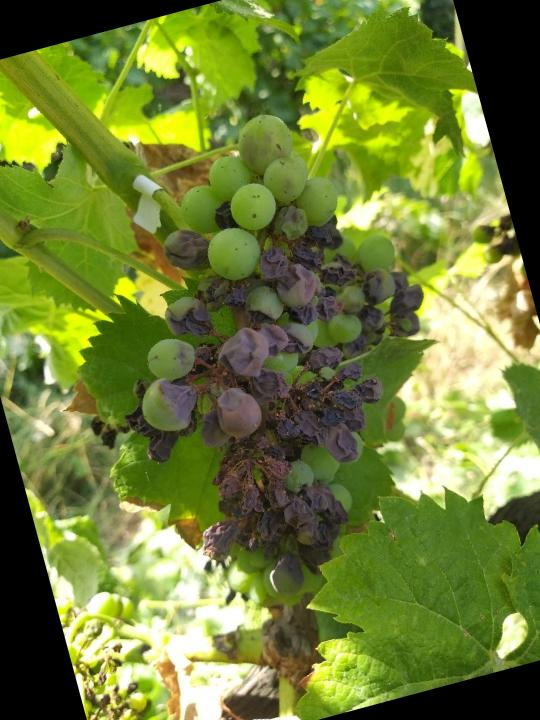grape: (53, 85, 495, 637)
